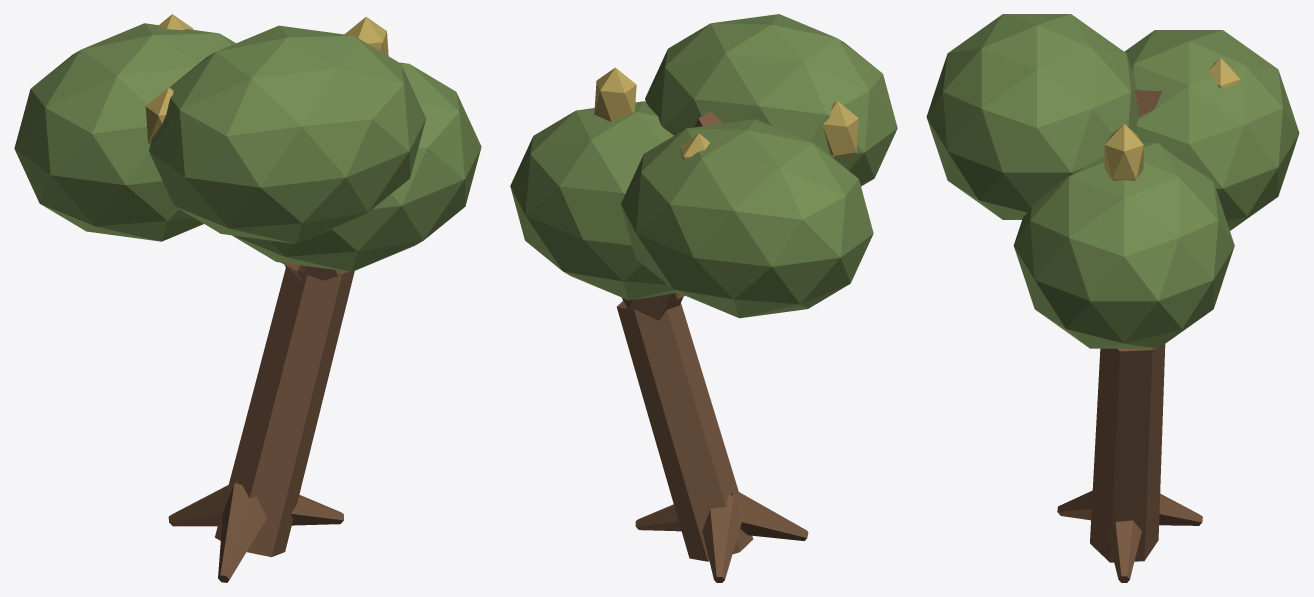
File: map-boundaries-v5__farm_01.glb
3 renders of one model, left to right at view 1: azimuth 30°, elevation 25°; view 2: azimuth 150°, elevation 25°; view 3: azimuth 270°, elevation 25°, orthographic. The views are drawn at different scales.
Parts seen in each view (by area): view 1: farm_01; view 2: farm_01; view 3: farm_01.
Boxes of the visible parts, x1,y1,x2,y2 form: farm_01: (14,14,481,582); farm_01: (510,14,897,582); farm_01: (926,14,1299,582).
Bounding box in the file's own units: 1.88 × 2.49 × 1.62.
